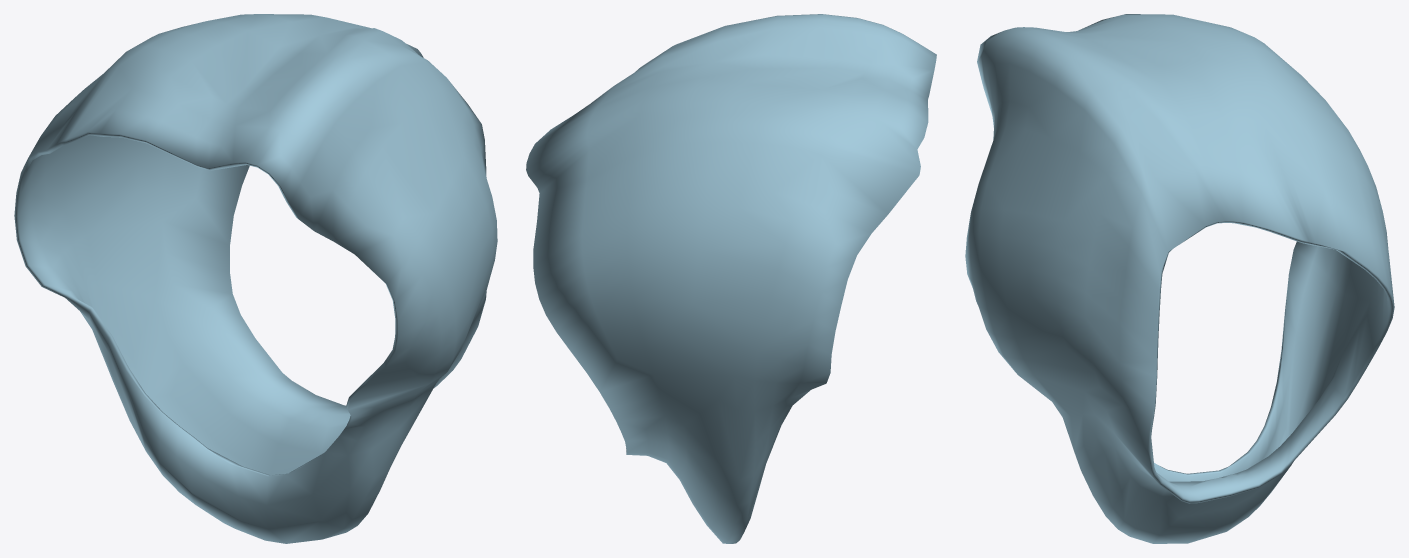
Rendered from articulacoes-articular-capsule-of-glenohumeral-joint-r.glb.
The picture shows the model from 3 angles, left to right: view 1: azimuth 30°, elevation 25°; view 2: azimuth 150°, elevation 25°; view 3: azimuth 270°, elevation 25°; orthographic projection. The views are drawn at different scales.
Parts seen in each view (by area): view 1: Articular capsule of glenohumeral joint.r; view 2: Articular capsule of glenohumeral joint.r; view 3: Articular capsule of glenohumeral joint.r.
Part boxes in pixels (box(x1,y1,x2,y2)): Articular capsule of glenohumeral joint.r: box(14, 14, 497, 543); Articular capsule of glenohumeral joint.r: box(526, 14, 936, 543); Articular capsule of glenohumeral joint.r: box(965, 14, 1394, 543).
Bounding box in the file's own units: 0.0472 × 0.0583 × 0.0467.
